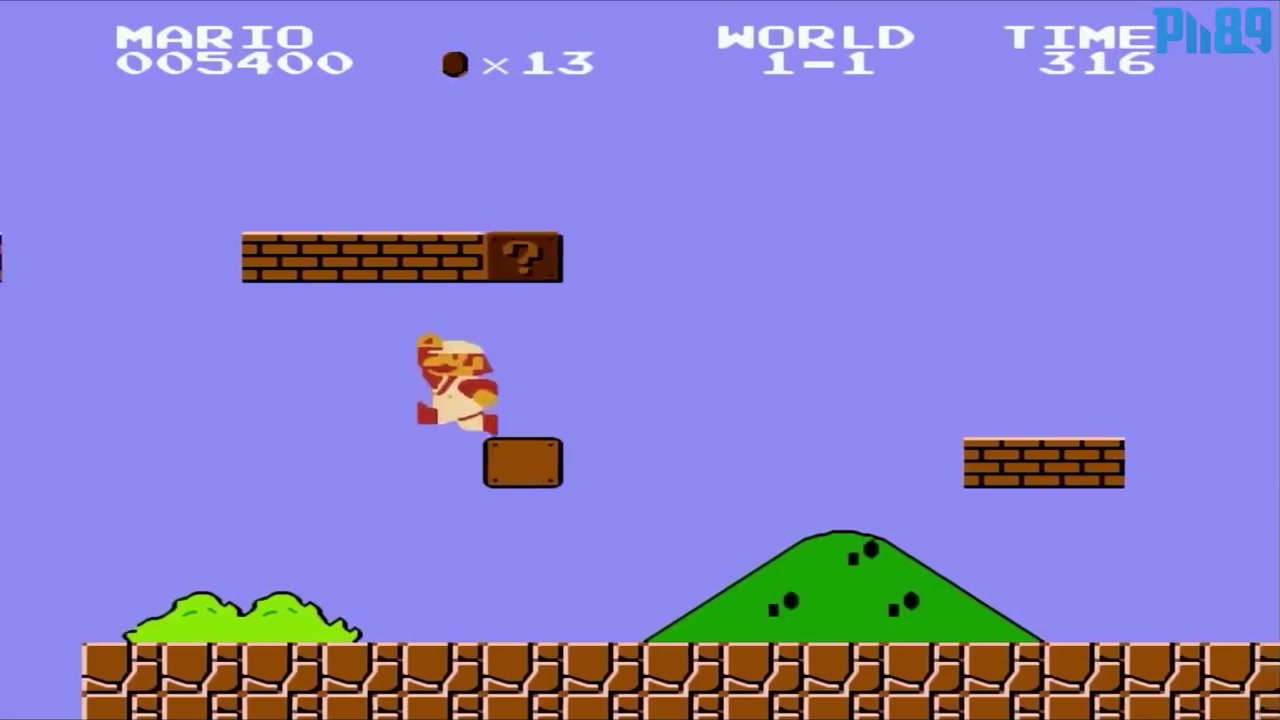mario: (407, 329, 512, 439)
